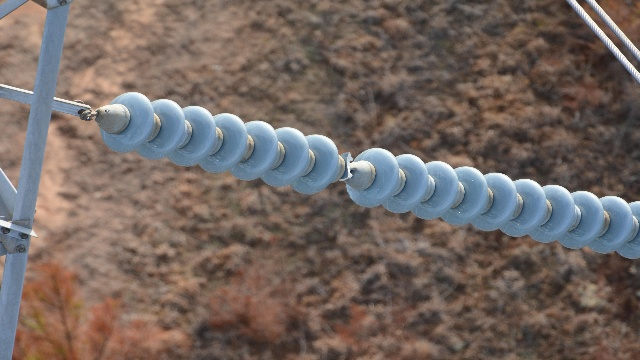broken_local: (341, 150, 356, 184)
insulator_unspecified: (100, 91, 639, 262)
